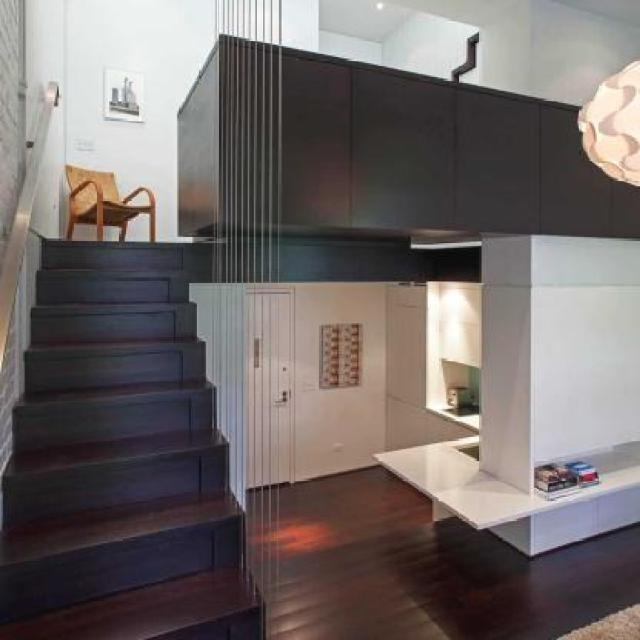stair: (0, 190, 282, 639)
